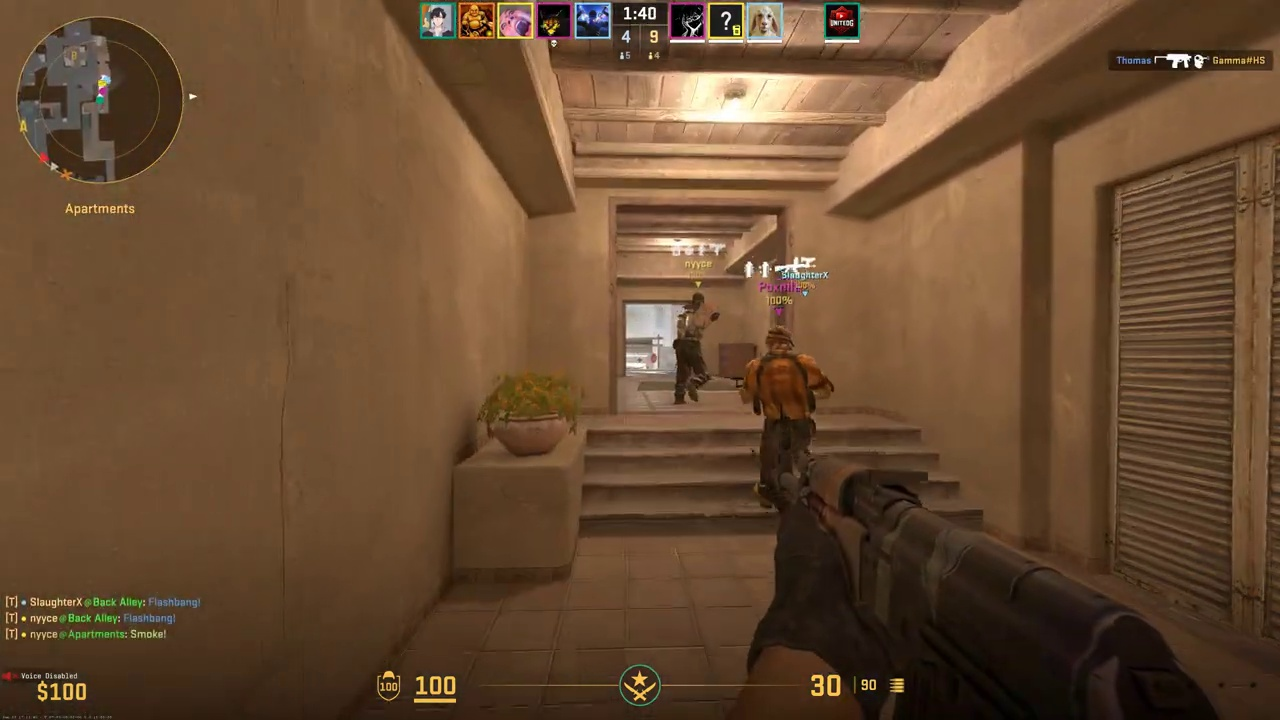Terrorist: (747, 329, 823, 499), (672, 294, 712, 404)
